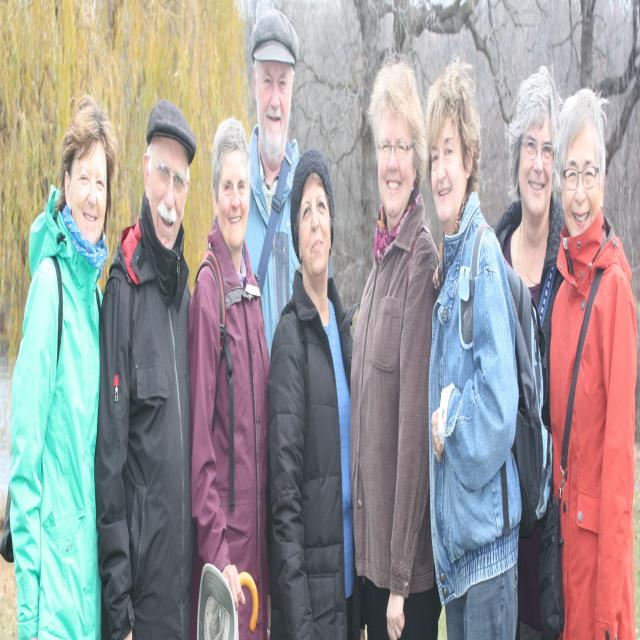body: (424, 70, 552, 640), (0, 94, 114, 639), (530, 80, 640, 640), (96, 101, 199, 640), (354, 53, 442, 640), (261, 146, 365, 640), (184, 112, 278, 640), (492, 63, 567, 638), (243, 6, 302, 367)
